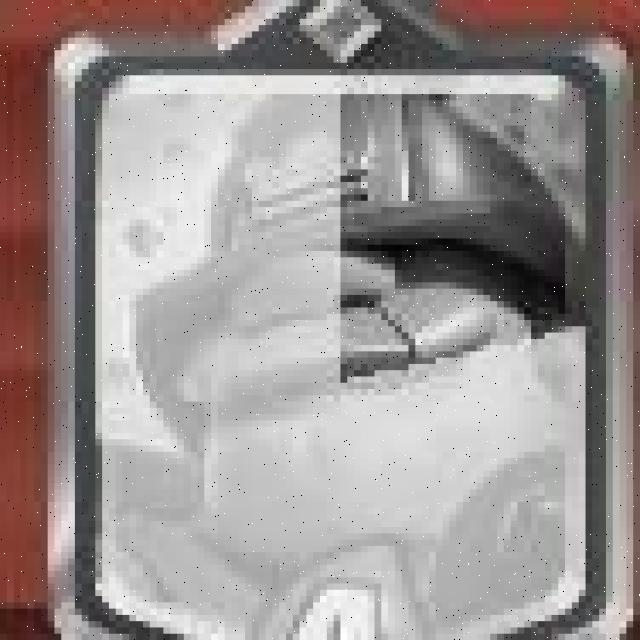Mighty_Miner: (52, 35, 628, 640)
